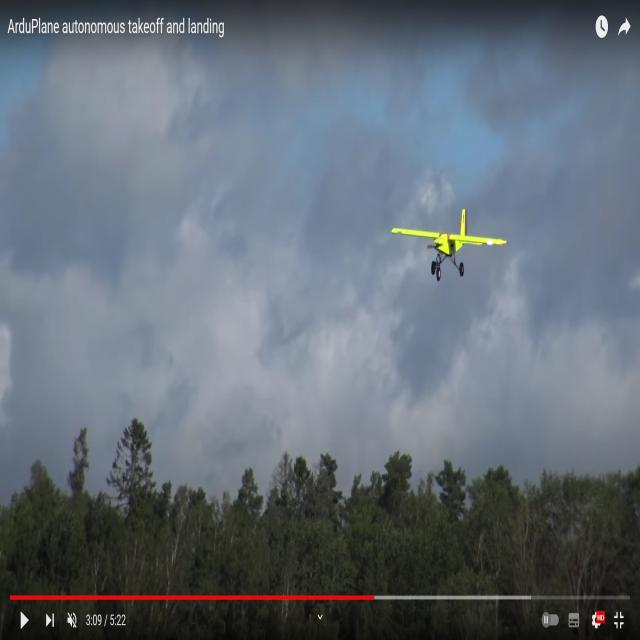iha: (423, 241, 474, 245)
